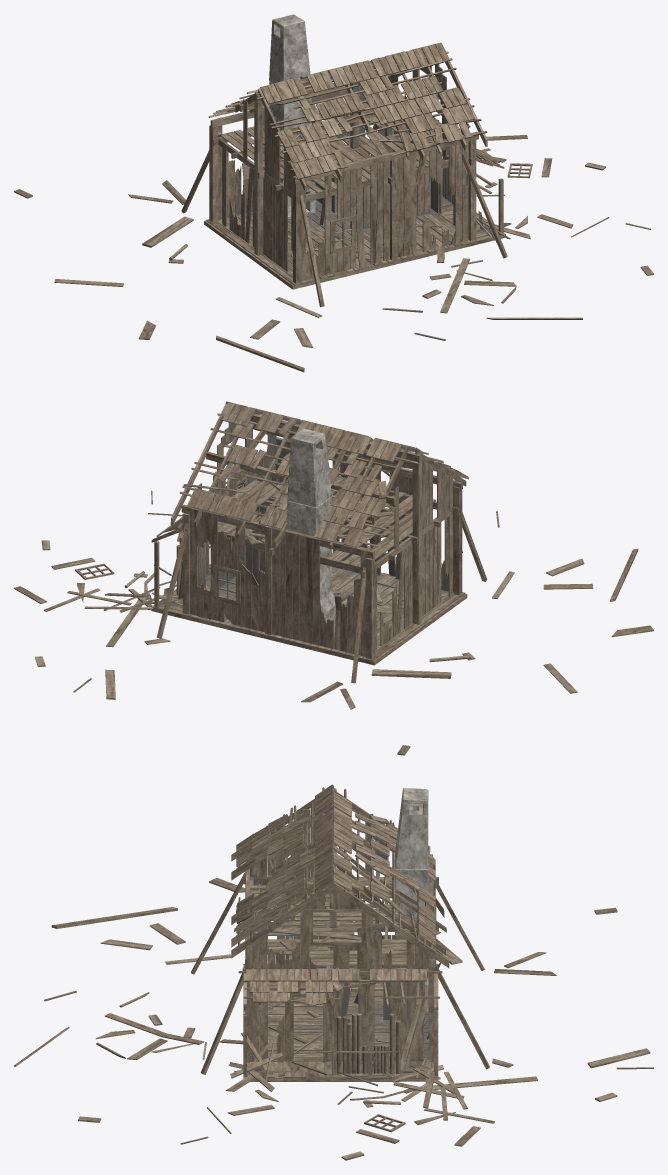
The model's file is house-nodraco.glb.
3 renders of one model, top to bottom at view 1: azimuth 30°, elevation 25°; view 2: azimuth 150°, elevation 25°; view 3: azimuth 270°, elevation 25°, orthographic. The views are drawn at different scales.
Bounding box in the file's own units: 17.61 × 6.24 × 16.71.
1 material, 1 textured.
